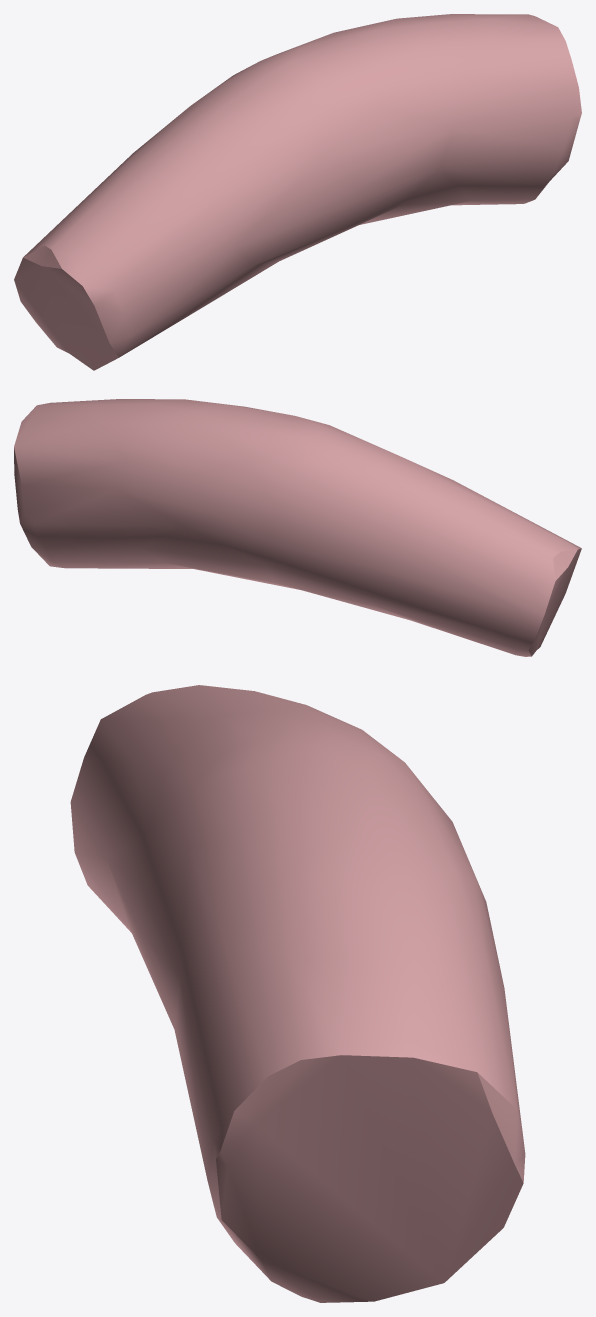
Rendered from fma68216_fj6579.glb.
The picture shows the model from 3 angles, top to bottom: view 1: azimuth 30°, elevation 25°; view 2: azimuth 150°, elevation 25°; view 3: azimuth 270°, elevation 25°; orthographic projection. The views are drawn at different scales.
Parts seen in each view (by area): view 1: FMA68216_FJ6579; view 2: FMA68216_FJ6579; view 3: FMA68216_FJ6579.
Part boxes in pixels (box(x1,y1,x2,y2)): FMA68216_FJ6579: box(14, 14, 581, 370); FMA68216_FJ6579: box(14, 399, 581, 656); FMA68216_FJ6579: box(70, 685, 525, 1302).
Size of the model in its own units: 0.0101 by 0.00382 by 0.00399.
